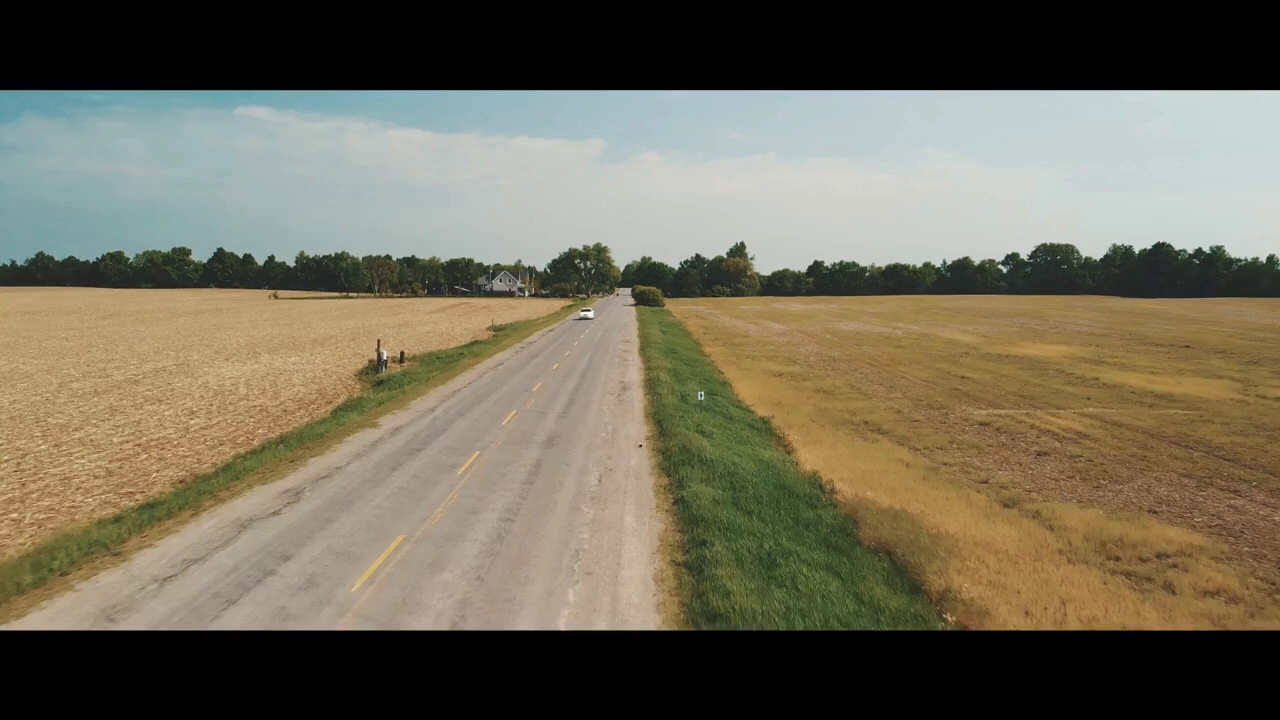araba: (579, 307, 594, 319)
